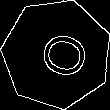O_W: (26, 26, 88, 82)
